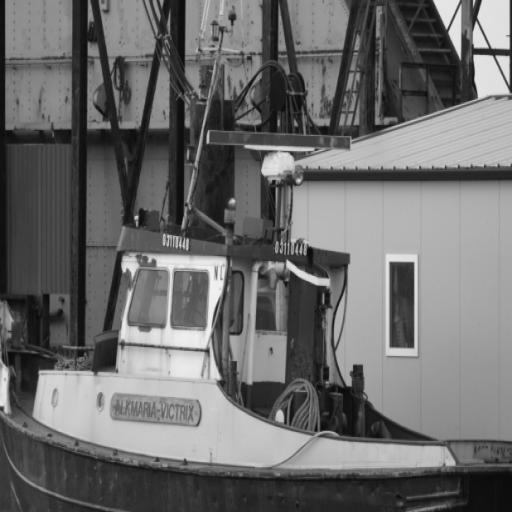tugboat: (1, 202, 512, 512)
